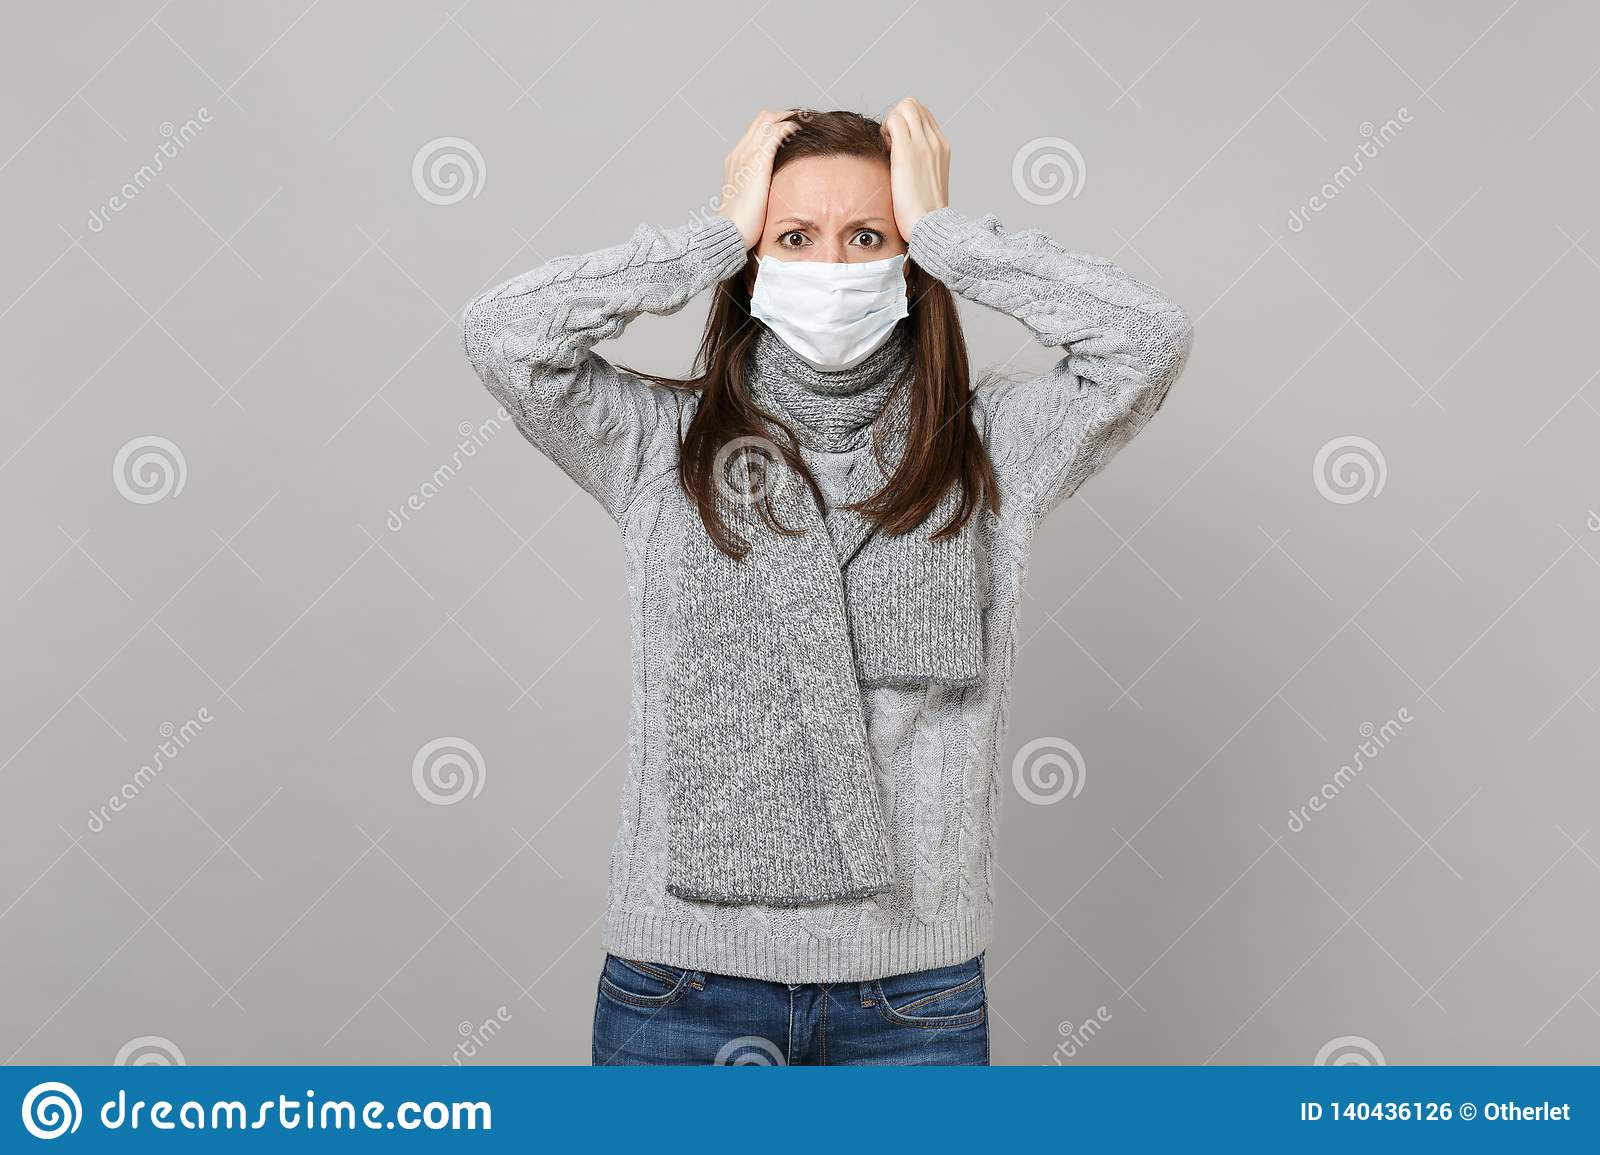mask: (745, 253, 918, 371)
